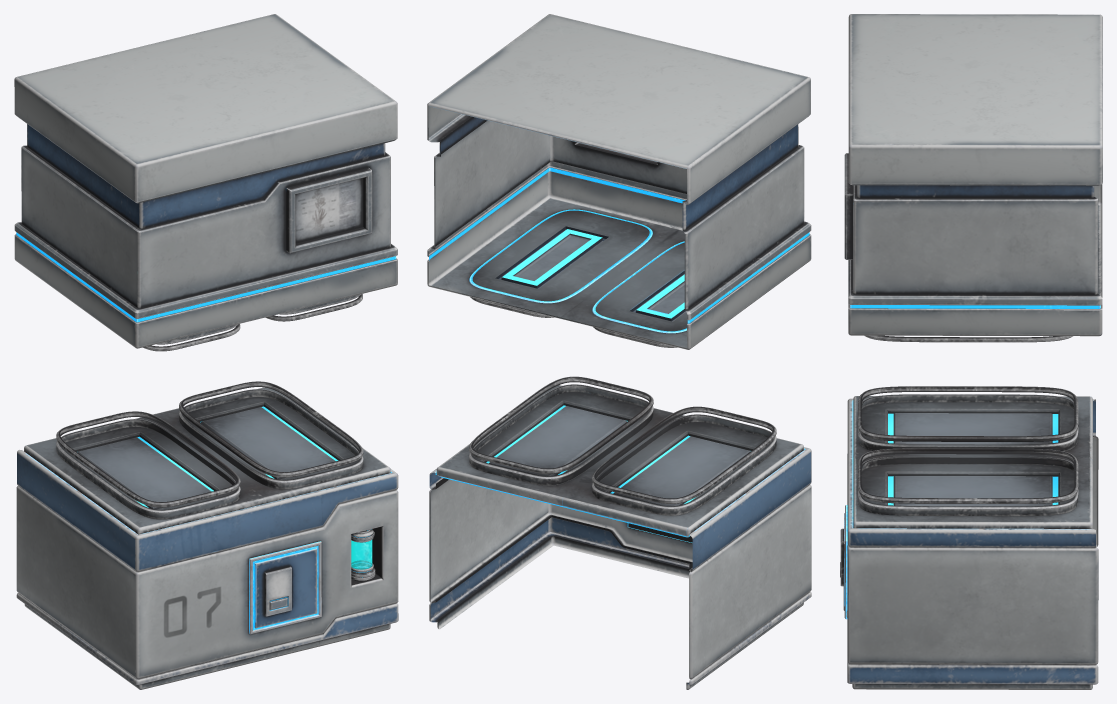
Rendered from encubadora.glb.
3 renders of one model, left to right at view 1: azimuth 30°, elevation 25°; view 2: azimuth 150°, elevation 25°; view 3: azimuth 270°, elevation 25°, orthographic. The views are drawn at different scales.
Visible parts, largest first — view 1: Object_18; view 2: Object_18; view 3: Object_18.
Part boxes in pixels (x1,y1,x2,y2): Object_18: (14,14,398,689); Object_18: (427,14,811,689); Object_18: (840,14,1102,689).
Bounding box in the file's own units: 2.08 × 3.99 × 1.74.
Materials: 1 (1 with a texture image).
